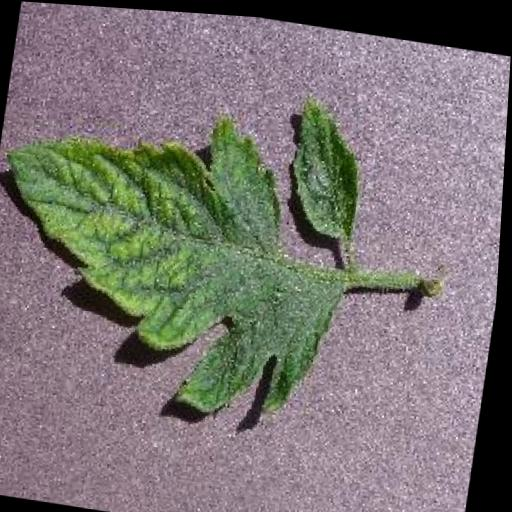Mosaic Virus: (0, 56, 373, 430)
